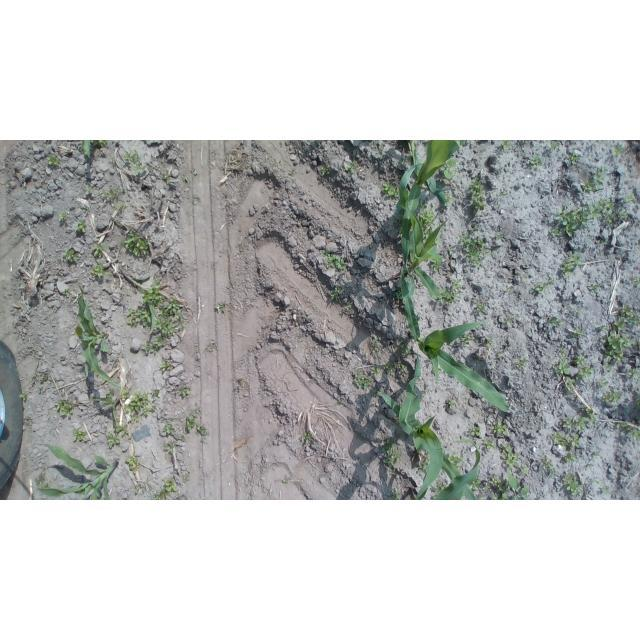Maize: (398, 262, 510, 412), (376, 351, 482, 500), (396, 140, 465, 300), (399, 162, 454, 340), (28, 442, 119, 498), (76, 286, 122, 389)
Weeds: (126, 283, 184, 358), (552, 199, 628, 238), (604, 304, 640, 365), (415, 203, 444, 273), (550, 407, 594, 449), (466, 476, 530, 501), (121, 388, 160, 425), (459, 233, 491, 266), (153, 473, 190, 500), (185, 402, 209, 438), (163, 420, 186, 452), (375, 439, 402, 466), (438, 279, 465, 306), (125, 231, 150, 257), (470, 177, 486, 213), (560, 472, 581, 497), (615, 421, 640, 442), (572, 355, 593, 380), (582, 170, 606, 191), (322, 249, 347, 269), (124, 151, 145, 174), (561, 253, 581, 276), (82, 140, 107, 156), (500, 445, 517, 468), (54, 400, 78, 416), (351, 372, 375, 388), (555, 349, 569, 376), (439, 159, 457, 180), (383, 360, 409, 374), (32, 372, 48, 394), (600, 391, 624, 405), (100, 185, 121, 201), (532, 280, 555, 294), (88, 393, 114, 405), (472, 298, 489, 316), (443, 454, 463, 467), (492, 421, 509, 436), (125, 455, 139, 473), (541, 455, 554, 474), (382, 182, 397, 198), (328, 289, 344, 304), (91, 242, 105, 258), (72, 429, 88, 443), (62, 251, 79, 264), (90, 265, 108, 277), (106, 433, 121, 447), (457, 335, 476, 346), (528, 155, 542, 168), (624, 369, 640, 380), (446, 400, 457, 416), (506, 314, 519, 327), (216, 302, 229, 315), (546, 317, 562, 327), (612, 143, 625, 155), (564, 378, 575, 392), (571, 330, 587, 339), (371, 339, 380, 355), (515, 359, 529, 369), (47, 156, 60, 166), (471, 426, 481, 439), (631, 274, 640, 288), (159, 360, 169, 372), (347, 162, 356, 175), (178, 388, 191, 397), (571, 153, 580, 166), (319, 166, 330, 176), (482, 439, 493, 449), (77, 221, 86, 233), (599, 379, 610, 388), (563, 457, 577, 464), (58, 210, 66, 222), (135, 483, 143, 495), (445, 193, 452, 206), (18, 393, 28, 402), (519, 466, 530, 474), (606, 364, 615, 372), (587, 285, 599, 291), (116, 204, 124, 213), (342, 303, 352, 310), (626, 195, 634, 202), (602, 486, 610, 493), (488, 339, 495, 346), (504, 141, 511, 148), (591, 478, 599, 484), (496, 233, 504, 239), (63, 289, 69, 296), (86, 184, 91, 192), (497, 354, 506, 358)
